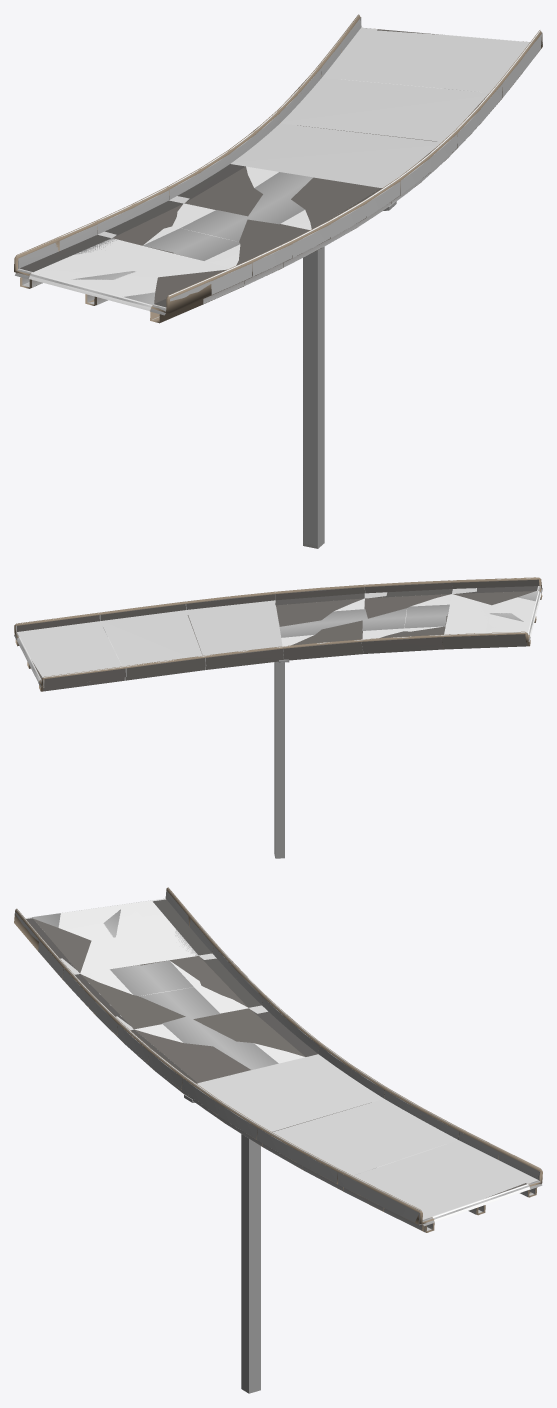
The model's file is ut_bridge_upward_tiny.dae.
3 views of the same model, one above another, from view 1: azimuth 30°, elevation 25°; view 2: azimuth 150°, elevation 25°; view 3: azimuth 270°, elevation 25° (orthographic). The views are drawn at different scales.
Parts seen in each view (by area): view 1: ut_bridge_upward_tiny_a50, ut_bridge_upward_tiny_a3000, Colmesh_ut_bridge_upward_tiny-1, ut_bridge_upward_tiny_a1000, ut_bridge_upward_tiny_a200; view 2: ut_bridge_upward_tiny_a200, ut_bridge_upward_tiny_a50, Colmesh_ut_bridge_upward_tiny-1, ut_bridge_upward_tiny_a3000, ut_bridge_upward_tiny_a1000; view 3: ut_bridge_upward_tiny_a50, ut_bridge_upward_tiny_a3000, ut_bridge_upward_tiny_a200, Colmesh_ut_bridge_upward_tiny-1, ut_bridge_upward_tiny_a1000.
Part boxes in pixels (x1,y1,x2,y2): ut_bridge_upward_tiny_a50: (18, 27, 529, 308); ut_bridge_upward_tiny_a3000: (15, 15, 541, 548); Colmesh_ut_bridge_upward_tiny-1: (14, 14, 542, 548); ut_bridge_upward_tiny_a1000: (18, 14, 542, 548); ut_bridge_upward_tiny_a200: (18, 18, 485, 307); ut_bridge_upward_tiny_a200: (17, 579, 539, 691); ut_bridge_upward_tiny_a50: (17, 586, 539, 679); Colmesh_ut_bridge_upward_tiny-1: (14, 577, 542, 691); ut_bridge_upward_tiny_a3000: (14, 577, 542, 858); ut_bridge_upward_tiny_a1000: (16, 587, 541, 687); ut_bridge_upward_tiny_a50: (25, 898, 538, 1219); ut_bridge_upward_tiny_a3000: (15, 888, 542, 1393); ut_bridge_upward_tiny_a200: (26, 892, 539, 1197); Colmesh_ut_bridge_upward_tiny-1: (14, 887, 542, 1232); ut_bridge_upward_tiny_a1000: (15, 890, 541, 1232).
Bounding box in the file's own units: 46.13 × 35.94 × 27.15.
